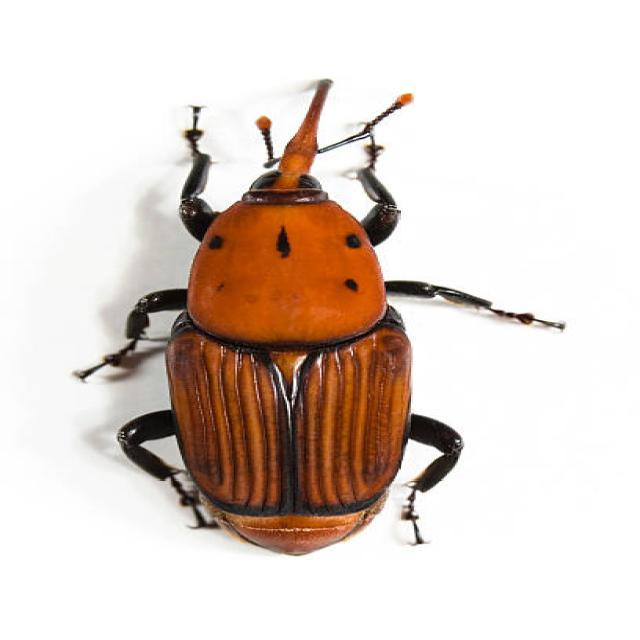Red-palm-weevil: (68, 72, 582, 586)
